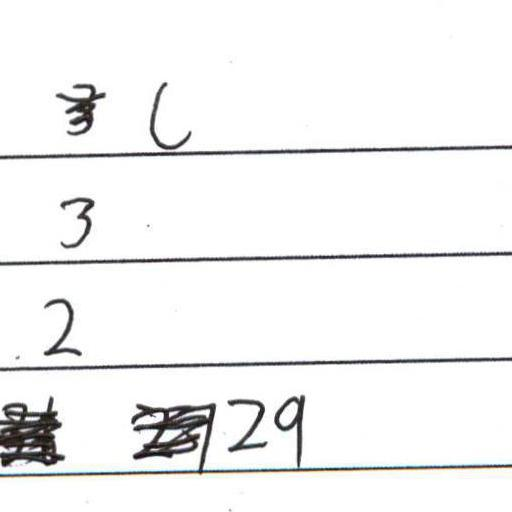ans: (222, 387, 307, 465), (143, 77, 194, 153), (40, 297, 84, 358), (56, 193, 96, 250)
